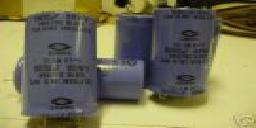Electrolytic Capacitor: (22, 5, 101, 128), (150, 2, 220, 110)
